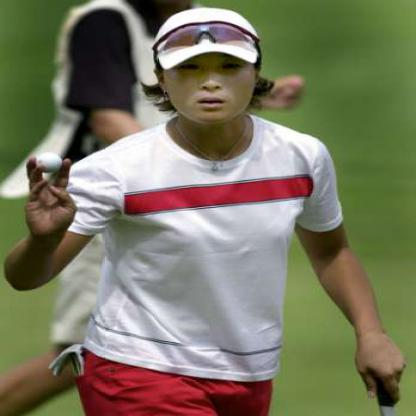face: (164, 10, 259, 126)
